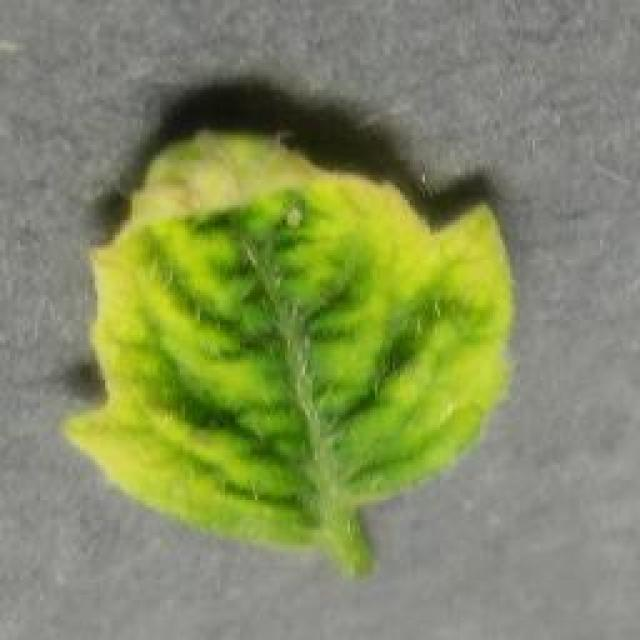Tomato yellow virus leaf: (65, 120, 517, 557)
